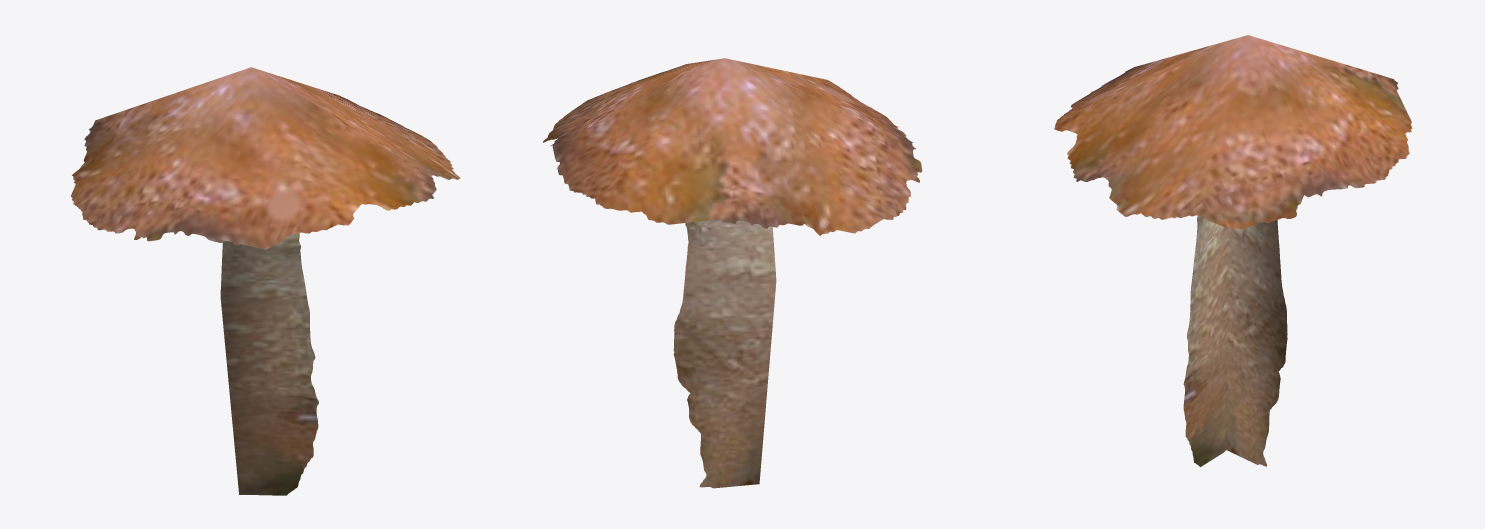
File: Mushroom_02_a.fbx
3 views of the same model, side by side, from view 1: azimuth 30°, elevation 25°; view 2: azimuth 150°, elevation 25°; view 3: azimuth 270°, elevation 25° (orthographic). The views are drawn at different scales.
Visible parts, largest first — view 1: mushroom_02_a; view 2: mushroom_02_a; view 3: mushroom_02_a.
Part boxes in pixels (<box>): mushroom_02_a: <box>70,67,460,495</box>; mushroom_02_a: <box>543,58,922,488</box>; mushroom_02_a: <box>1054,35,1412,466</box>.
Bounding box in the file's own units: 0.4597 × 0.4503 × 0.4465.
